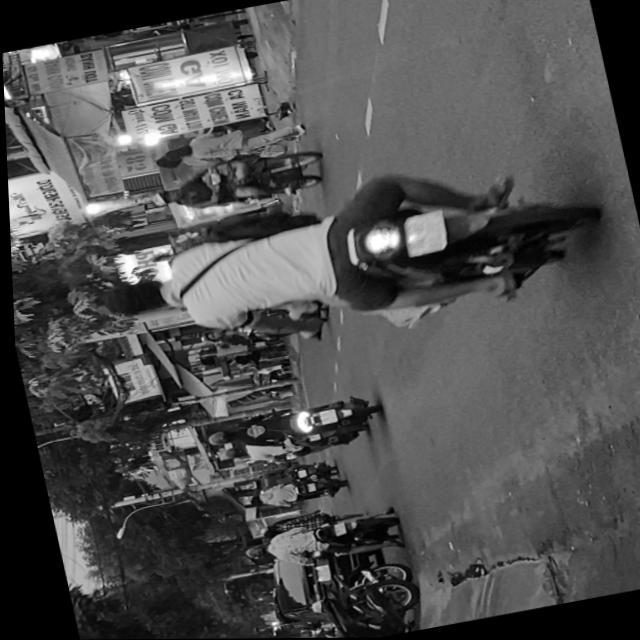helmet: (146, 185, 179, 206), (200, 427, 230, 446), (237, 542, 264, 560)
licenseplate: (75, 140, 614, 378), (140, 141, 327, 221), (196, 389, 383, 468), (233, 503, 401, 575)
motorcyclist: (95, 271, 177, 325)
nohelmet: (398, 209, 446, 256), (313, 407, 333, 424), (327, 521, 341, 535)
